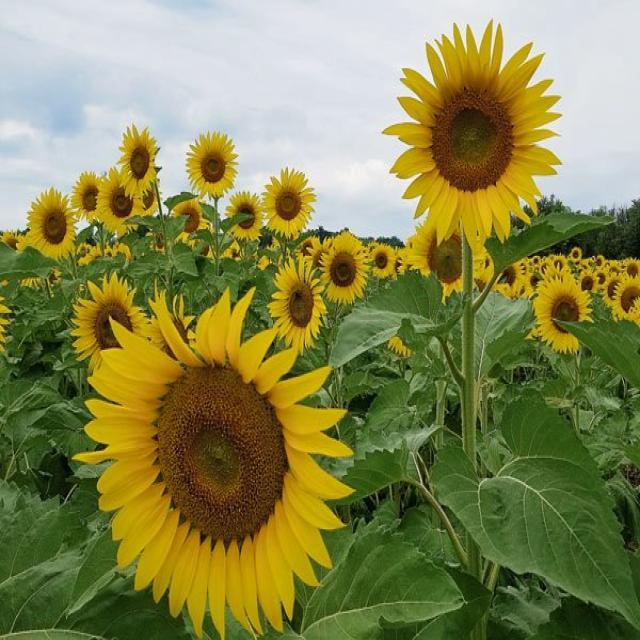sunflower: (73, 283, 359, 640), (378, 12, 561, 244), (68, 274, 149, 380), (265, 252, 331, 358), (402, 216, 474, 306), (529, 277, 595, 360), (262, 158, 317, 240), (95, 159, 144, 245), (322, 222, 372, 304), (114, 118, 159, 203), (180, 130, 237, 190), (28, 190, 76, 255), (225, 189, 265, 245), (162, 190, 209, 235), (70, 172, 107, 228), (362, 233, 397, 285), (609, 274, 640, 329), (486, 258, 527, 298), (621, 250, 640, 285), (568, 242, 588, 266), (591, 251, 608, 271)
